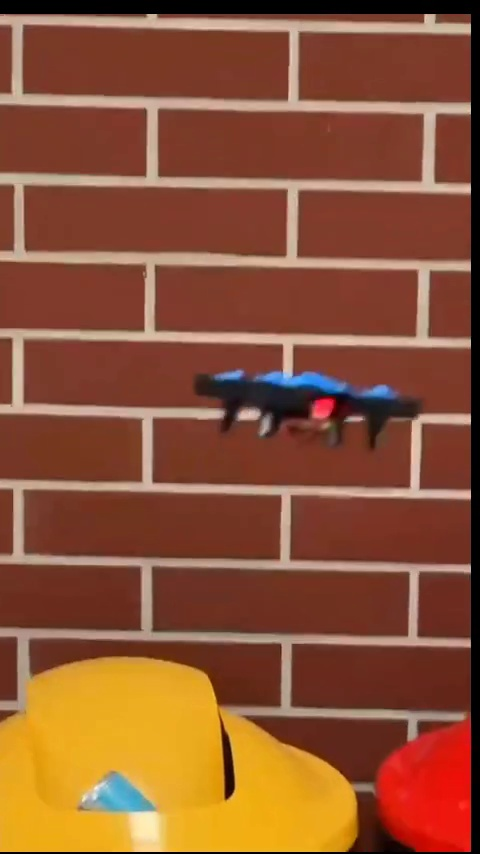drone: (196, 368, 423, 458)
